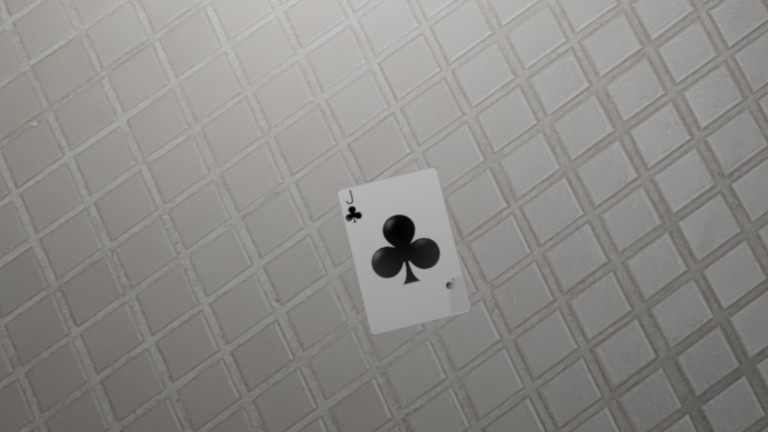jack_of_clubs: (443, 275, 470, 313), (338, 188, 364, 226)
